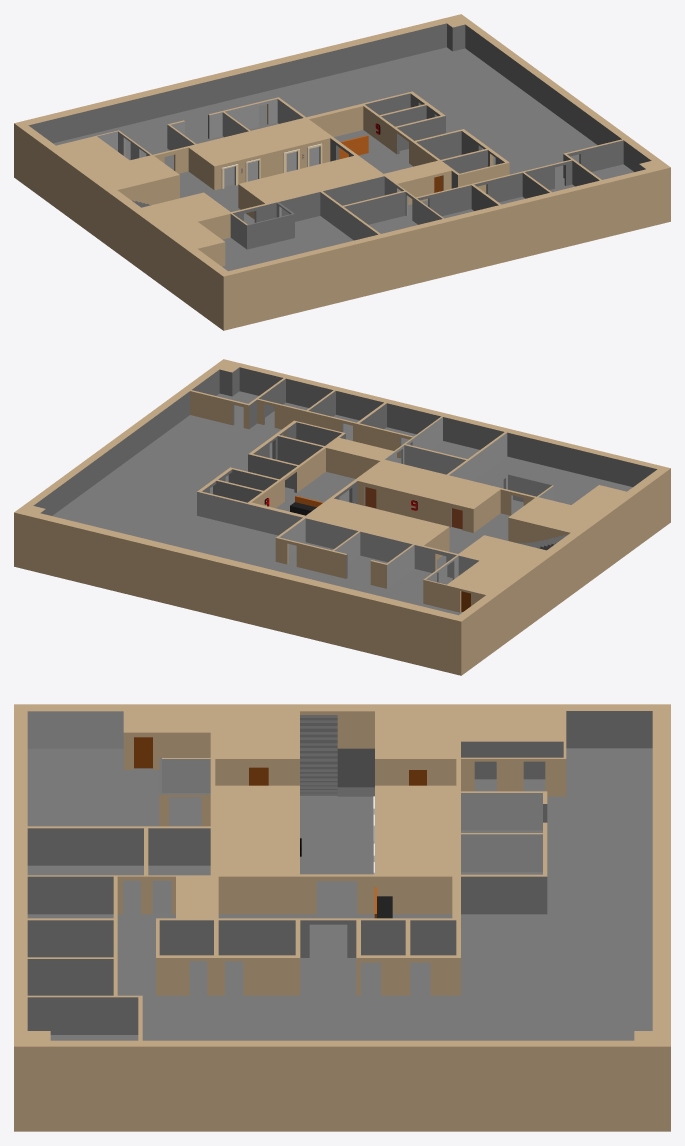
Rendered from 9F-coloredNhan.gltf.
The picture shows the model from 3 angles, top to bottom: view 1: azimuth 30°, elevation 25°; view 2: azimuth 150°, elevation 25°; view 3: azimuth 270°, elevation 25°; orthographic projection. The views are drawn at different scales.
Visible parts, largest first — view 1: root; view 2: root; view 3: root.
Part boxes in pixels (x1,y1,x2,y2): root: [14, 14, 670, 330]; root: [14, 359, 670, 675]; root: [14, 704, 670, 1131].
Size of the model in its own units: 45.38 by 5.25 by 36.81.
